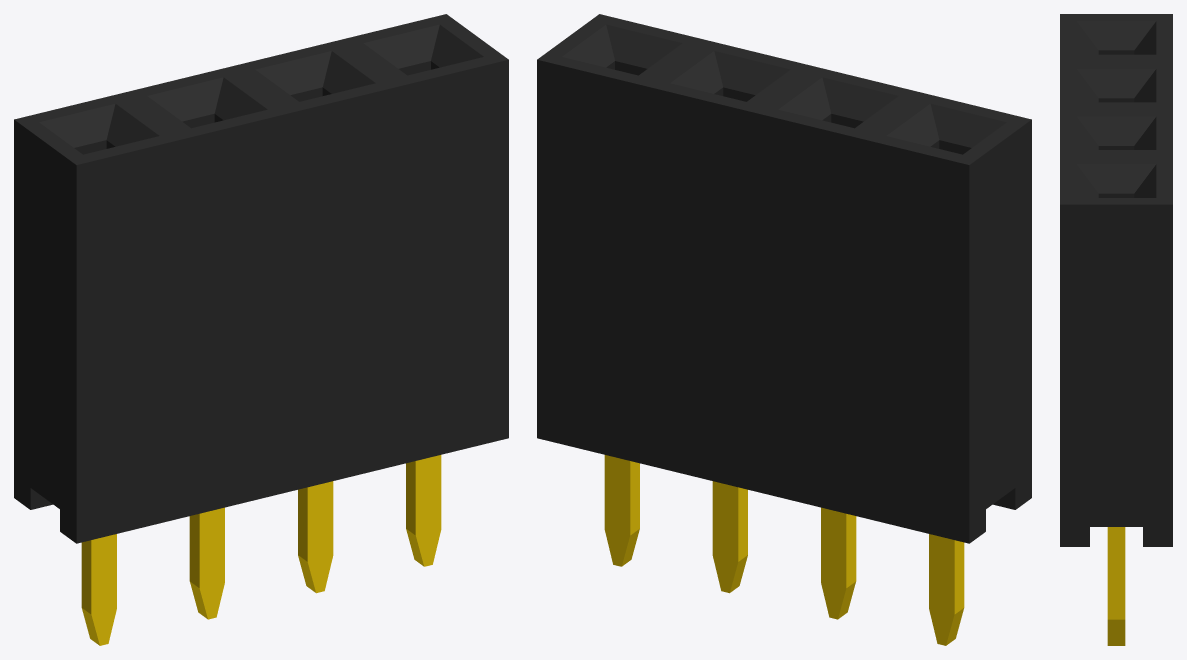
The model's file is PBS4.glb.
3 views of the same model, side by side, from view 1: azimuth 30°, elevation 25°; view 2: azimuth 150°, elevation 25°; view 3: azimuth 270°, elevation 25° (orthographic). The views are drawn at different scales.
Parts seen in each view (by area): view 1: PBS (DS1023 CONNFLY); view 2: PBS (DS1023 CONNFLY); view 3: PBS (DS1023 CONNFLY).
Part boxes in pixels (x1=…): PBS (DS1023 CONNFLY): x1=14, y1=14, x2=508, y2=645; PBS (DS1023 CONNFLY): x1=537, y1=14, x2=1031, y2=645; PBS (DS1023 CONNFLY): x1=1060, y1=14, x2=1172, y2=645.
Bounding box in the file's own units: 0.0102 × 0.0115 × 0.00254.
